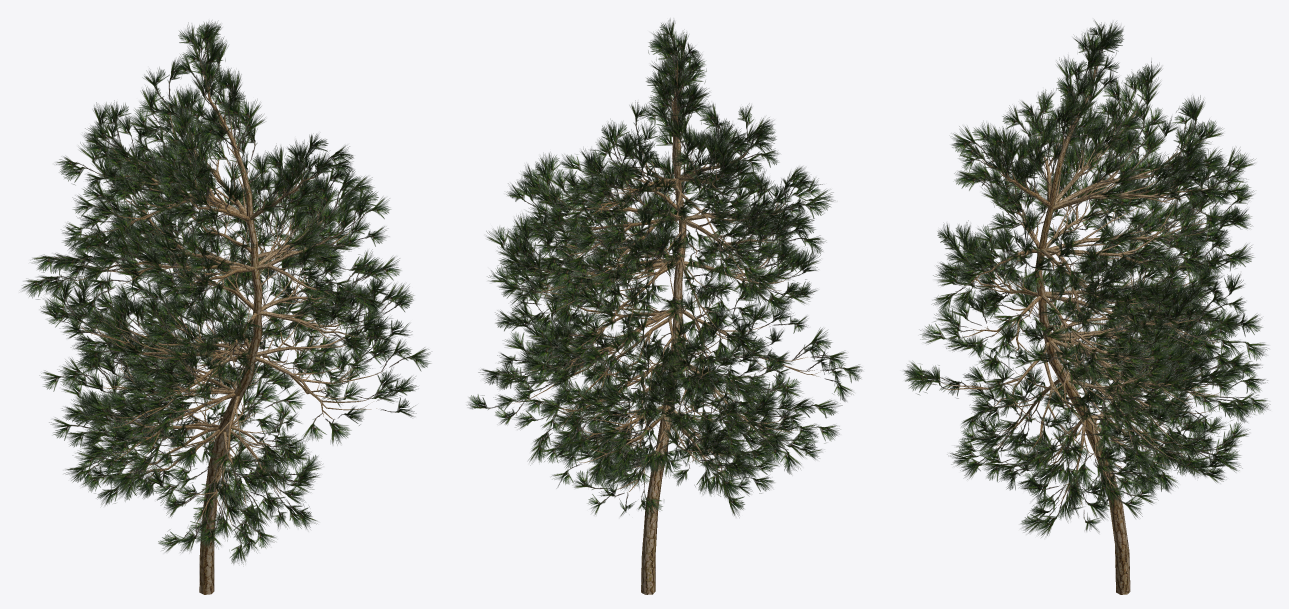
The model's file is tree_pinus.glb.
3 renders of one model, left to right at view 1: azimuth 30°, elevation 25°; view 2: azimuth 150°, elevation 25°; view 3: azimuth 270°, elevation 25°, orthographic. The views are drawn at different scales.
Visible parts, largest first — view 1: Tree_Pinus-ponderosa_D_spring-summer-autumn.001_Leaf_Pinus-p, Tree_Pinus-ponderosa_D_spring-summer-autumn.001_Bark_Pinus-p; view 2: Tree_Pinus-ponderosa_D_spring-summer-autumn.001_Leaf_Pinus-p, Tree_Pinus-ponderosa_D_spring-summer-autumn.001_Bark_Pinus-p; view 3: Tree_Pinus-ponderosa_D_spring-summer-autumn.001_Leaf_Pinus-p, Tree_Pinus-ponderosa_D_spring-summer-autumn.001_Bark_Pinus-p.
Boxes of the visible parts, x1=… form: Tree_Pinus-ponderosa_D_spring-summer-autumn.001_Leaf_Pinus-p: x1=22, y1=20, x2=430, y2=564; Tree_Pinus-ponderosa_D_spring-summer-autumn.001_Bark_Pinus-p: x1=67, y1=60, x2=384, y2=594; Tree_Pinus-ponderosa_D_spring-summer-autumn.001_Leaf_Pinus-p: x1=467, y1=18, x2=862, y2=519; Tree_Pinus-ponderosa_D_spring-summer-autumn.001_Bark_Pinus-p: x1=512, y1=60, x2=818, y2=594; Tree_Pinus-ponderosa_D_spring-summer-autumn.001_Leaf_Pinus-p: x1=904, y1=20, x2=1270, y2=537; Tree_Pinus-ponderosa_D_spring-summer-autumn.001_Bark_Pinus-p: x1=943, y1=63, x2=1229, y2=594.
Size of the model in its own units: 5.87 by 8.97 by 5.38.
Materials: 2 (2 with a texture image).
